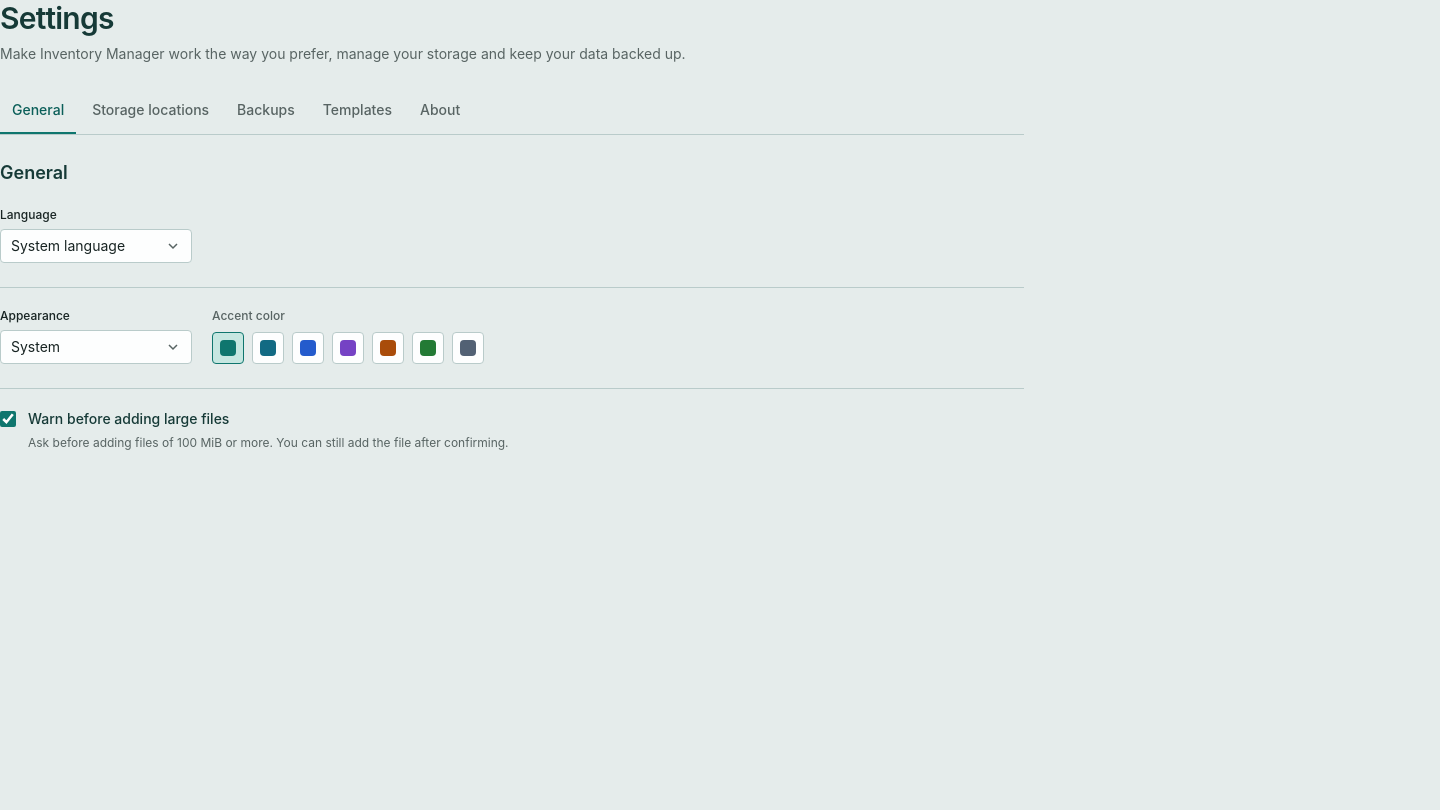
Test: shows unsaved changes and lets the user explicitly retry transport failures
Click the dropdown named "Appearance" at (96, 347), box 0,330 -> 192,364
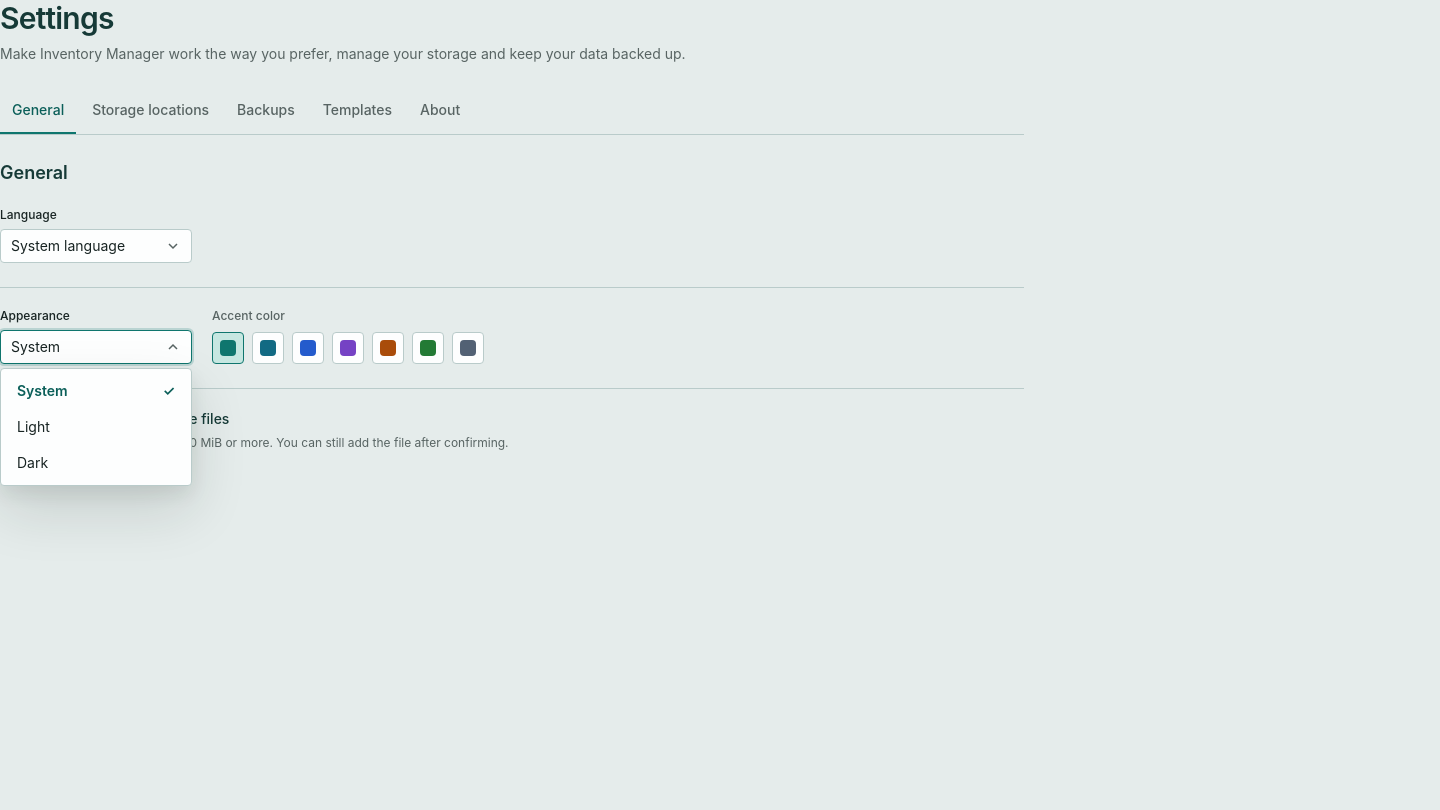
Click the option "Dark" at (96, 463), box 5,445 -> 187,481
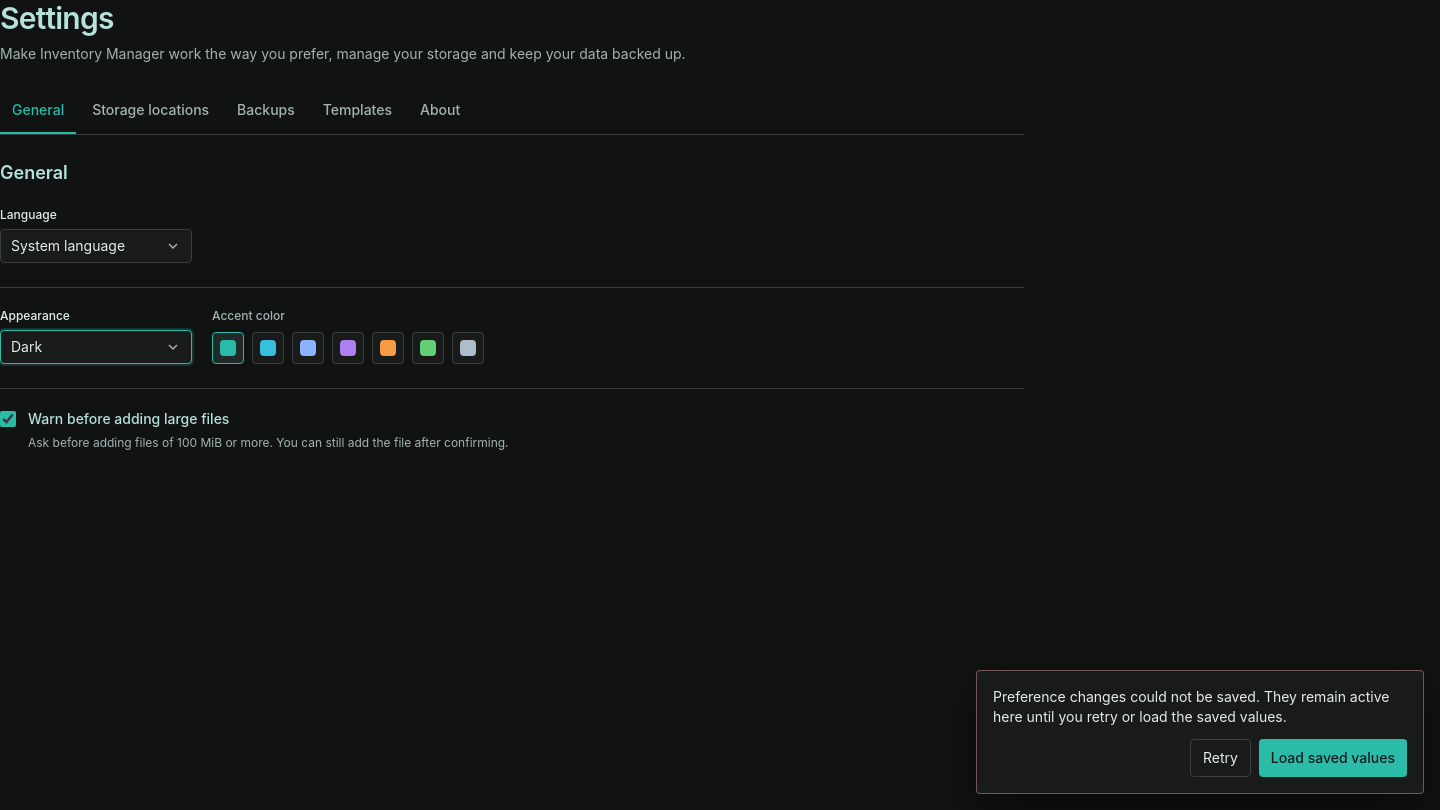
Now the message shows "could not be saved", box 993,688 -> 1389,725
Now the dropdown named "Appearance" reads "Dark", box 0,330 -> 192,364
Click the button "Retry" at (1220, 758), box 1190,739 -> 1251,777
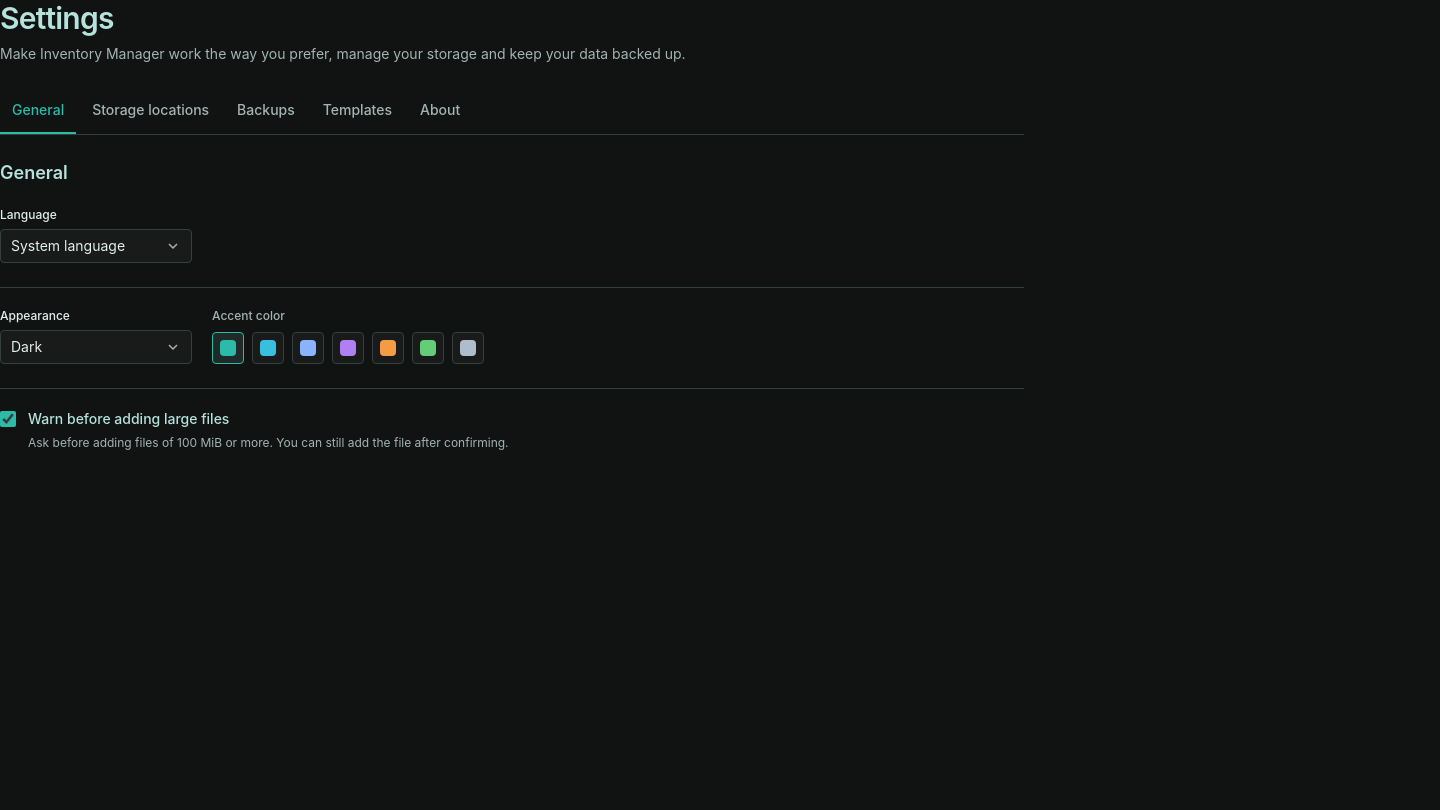
Now the message is gone
